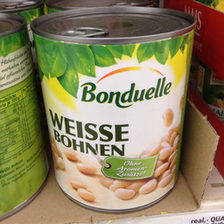beans: (27, 6, 198, 212)
